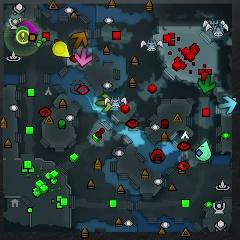Other: (16, 31, 30, 45), (16, 26, 30, 32)
p2: (196, 141, 212, 161)
p3: (20, 21, 39, 35)
p4: (52, 41, 70, 57)
x1: (75, 48, 93, 66)
x2: (96, 93, 113, 113)
x3: (219, 96, 237, 114)
x4: (198, 74, 216, 93)
x5: (70, 32, 88, 48)
